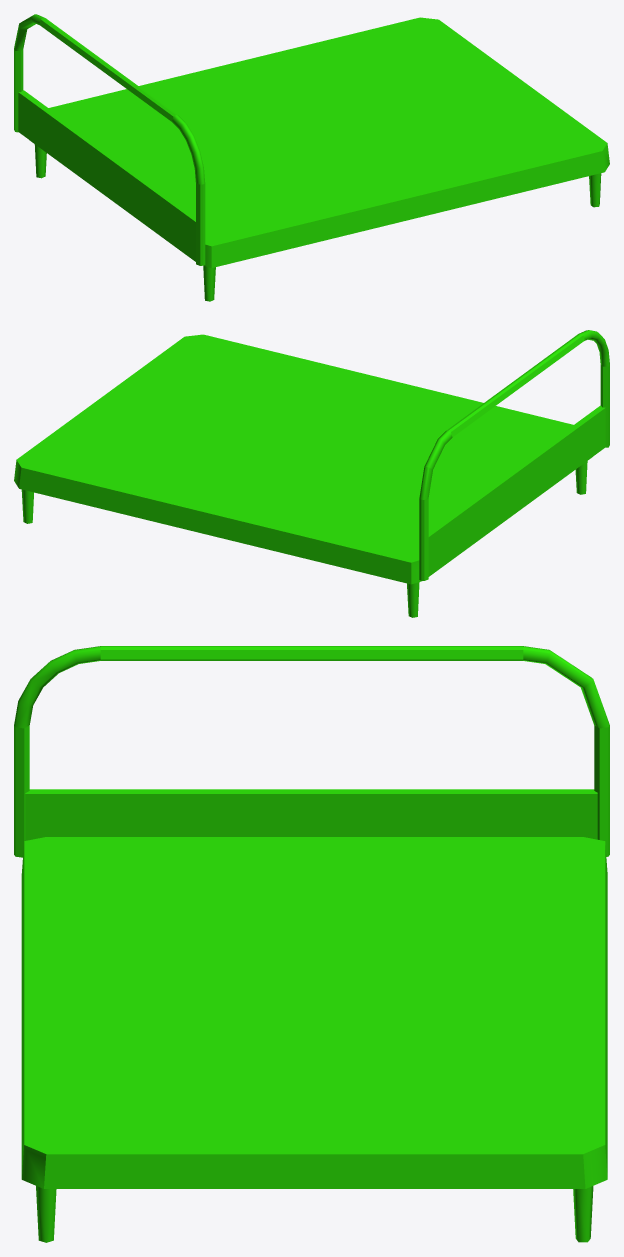
Rendered from Bedspring_01_Lod2.fbx.
3 views of the same model, one above another, from view 1: azimuth 30°, elevation 25°; view 2: azimuth 150°, elevation 25°; view 3: azimuth 270°, elevation 25° (orthographic). The views are drawn at different scales.
Visible parts, largest first — view 1: Bedspring_01_Lod2; view 2: Bedspring_01_Lod2; view 3: Bedspring_01_Lod2.
Boxes of the visible parts, box(x1,y1,x2,y2) form: Bedspring_01_Lod2: box(14, 14, 609, 301); Bedspring_01_Lod2: box(14, 330, 609, 617); Bedspring_01_Lod2: box(14, 646, 609, 1242).
Bounding box in the file's own units: 206 × 82.29 × 159.
